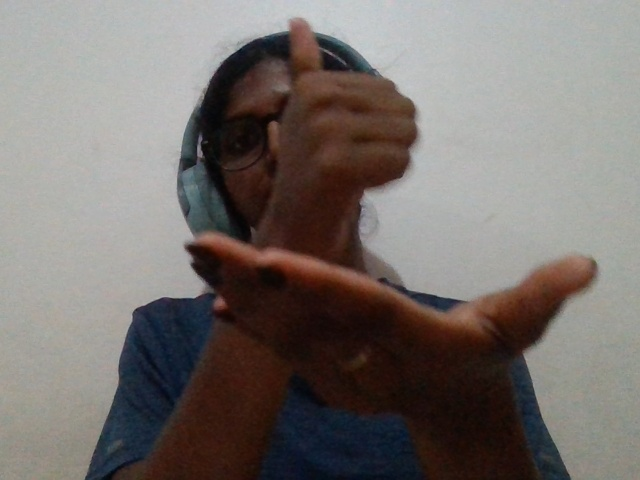Help: (110, 12, 605, 480)
